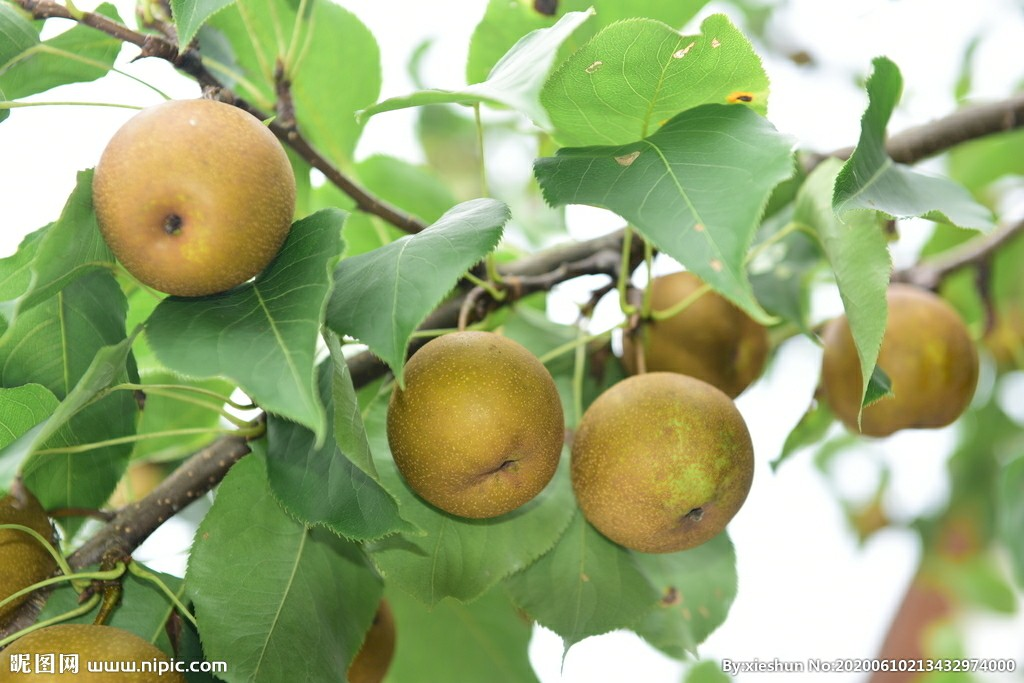pear: (94, 97, 298, 296), (388, 333, 565, 524), (572, 369, 757, 547), (820, 288, 979, 441), (625, 266, 776, 406), (1, 619, 172, 683), (1, 468, 50, 611)
